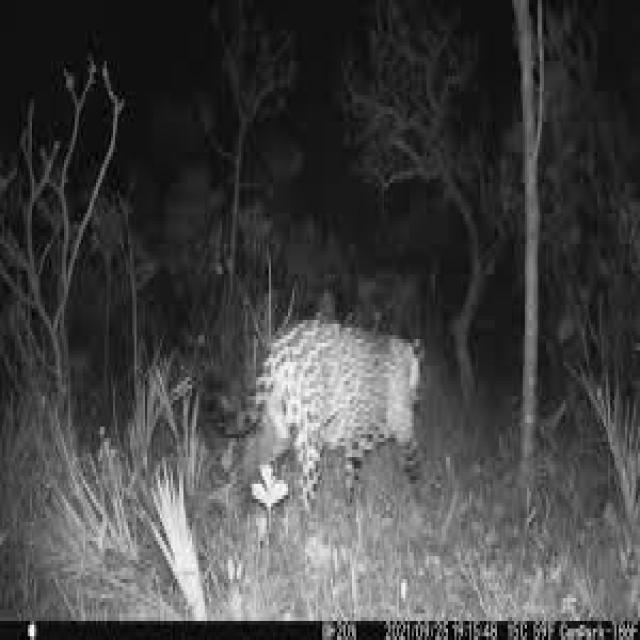Jaguar: (233, 312, 442, 518)
